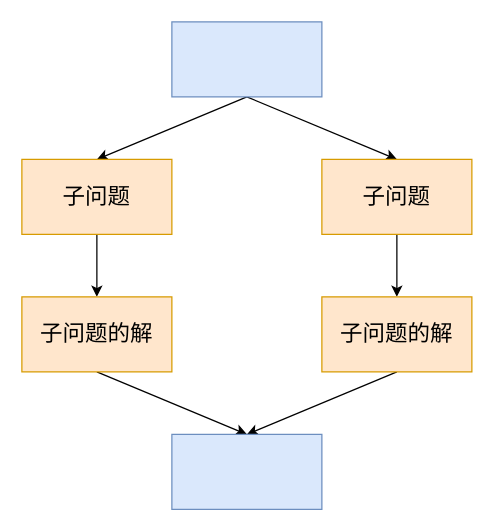
The diagram is 494 pixels wide and 531 high, and some of its shapes have lost their labels. Each missing label, with the centre of its shape:
原问题: [246,59]
原问题的解: [246,471]
